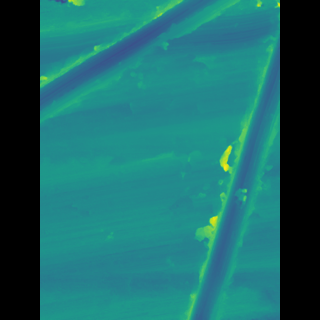Loch: (179, 23, 253, 320), (67, 0, 220, 129)
